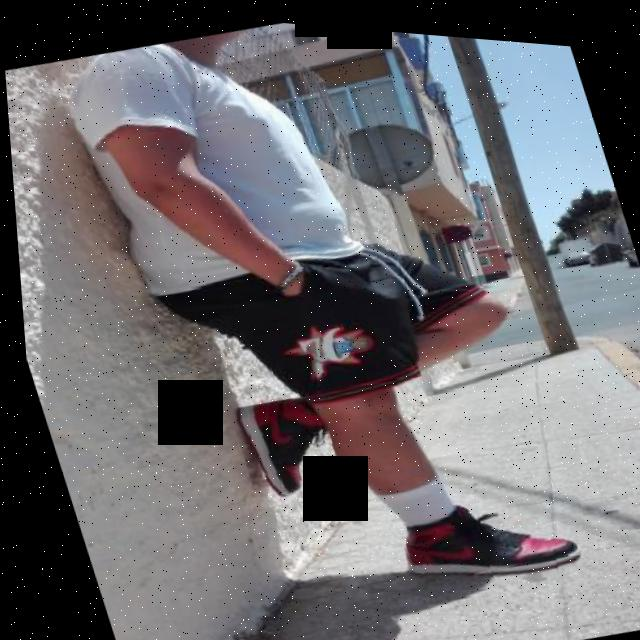shoe: (365, 461, 597, 610), (215, 360, 362, 511)
